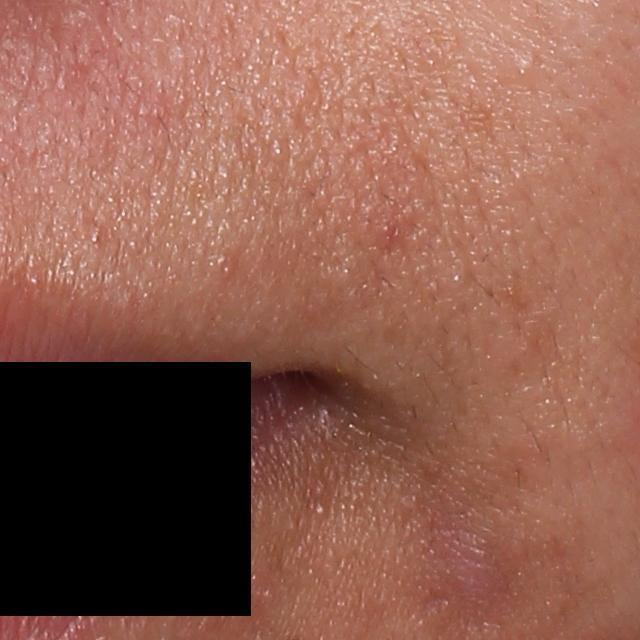atrophic_scar: (418, 592, 449, 620)
papule: (442, 530, 501, 609)
